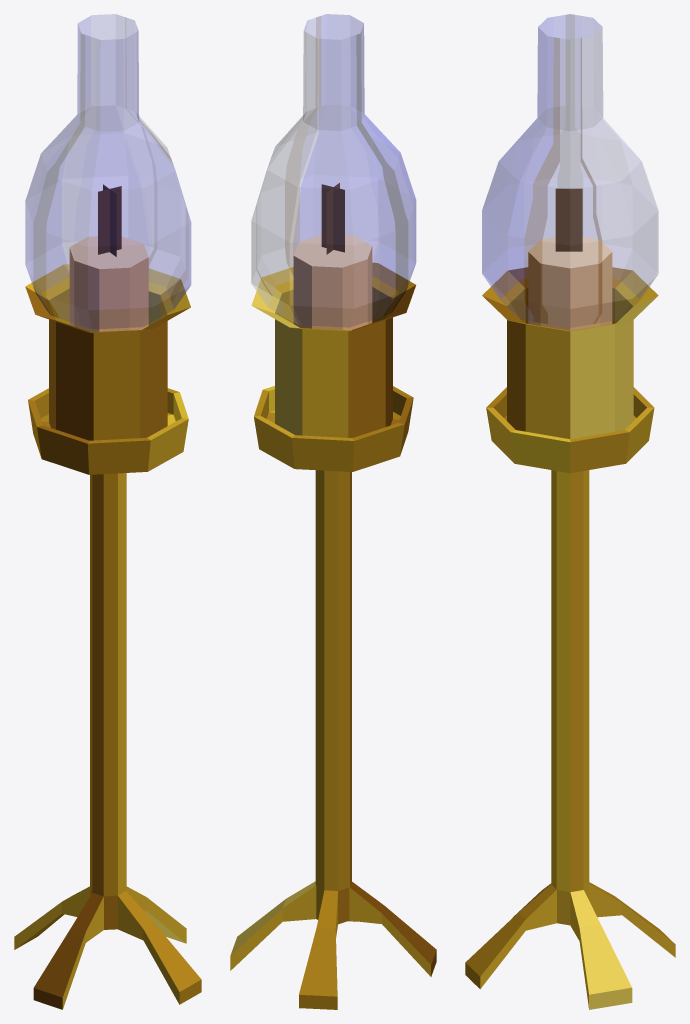
The model's file is candle_336x12.gltf.
The picture shows the model from 3 angles, left to right: view 1: azimuth 30°, elevation 25°; view 2: azimuth 150°, elevation 25°; view 3: azimuth 270°, elevation 25°; orthographic projection.
Parts seen in each view (by area): view 1: candle_336x12; view 2: candle_336x12; view 3: candle_336x12.
Part boxes in pixels (x1,y1,x2,y2): candle_336x12: (14, 14, 201, 1009); candle_336x12: (230, 14, 436, 1009); candle_336x12: (465, 14, 675, 1009).
Size of the model in its own units: 0.4538 by 2.35 by 0.4768.
Materials: 2 (2 with a texture image).
